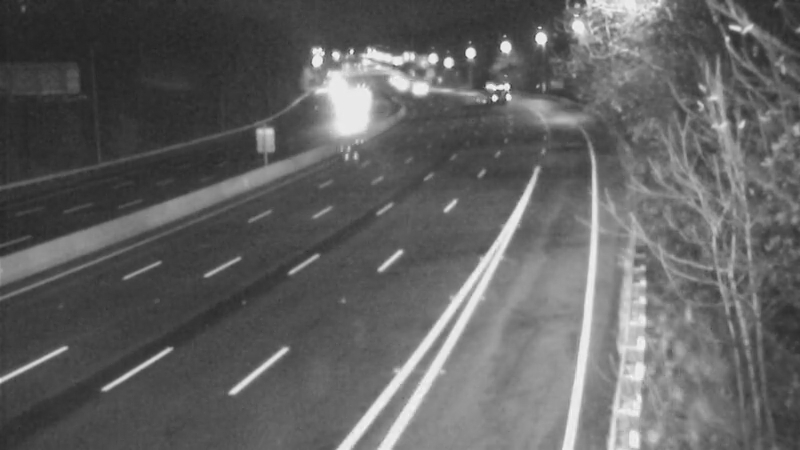vehicle: (375, 59, 425, 109), (462, 67, 512, 117), (396, 66, 446, 116), (323, 88, 373, 138)
